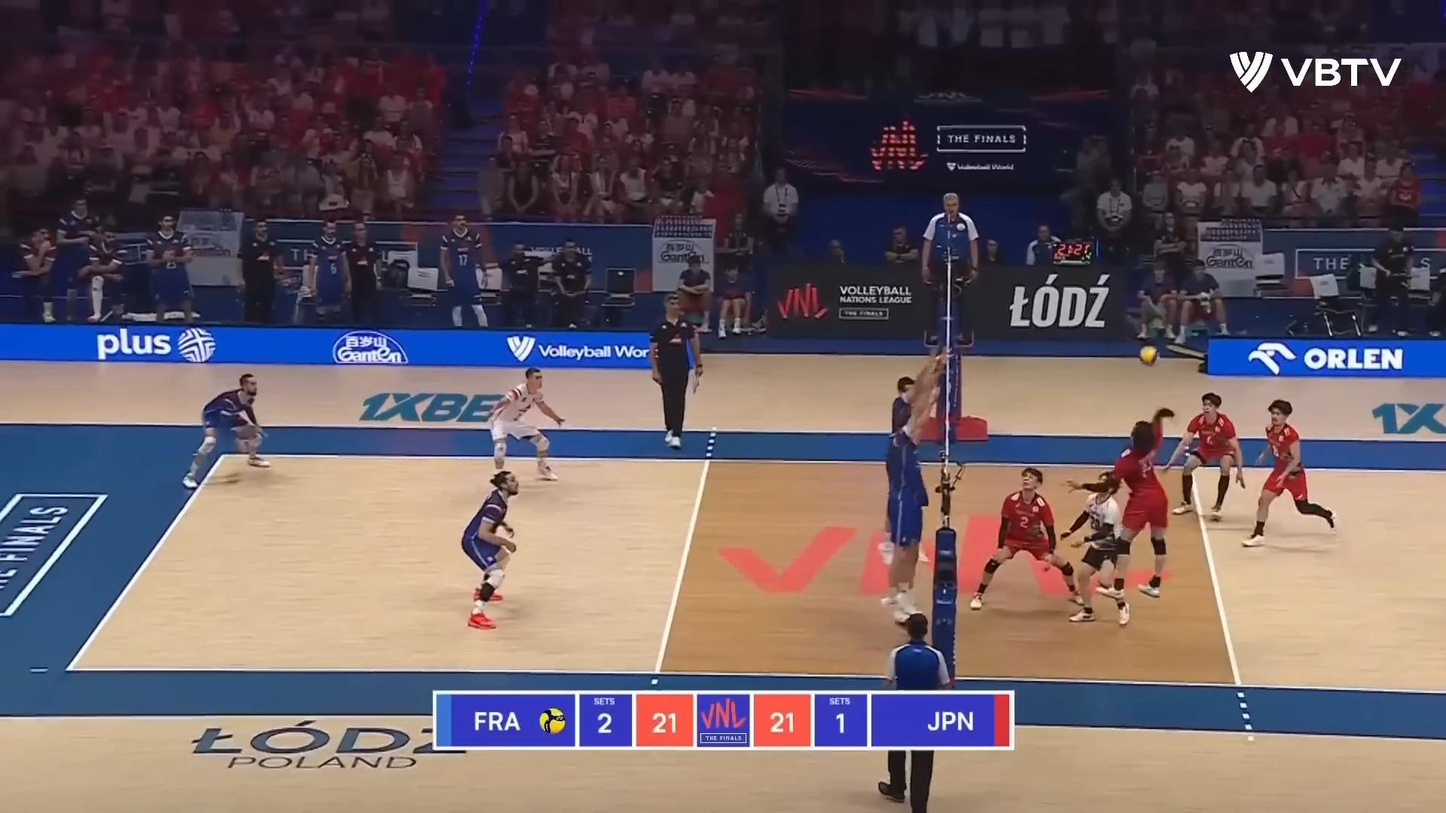ball: (1138, 345, 1159, 367)
